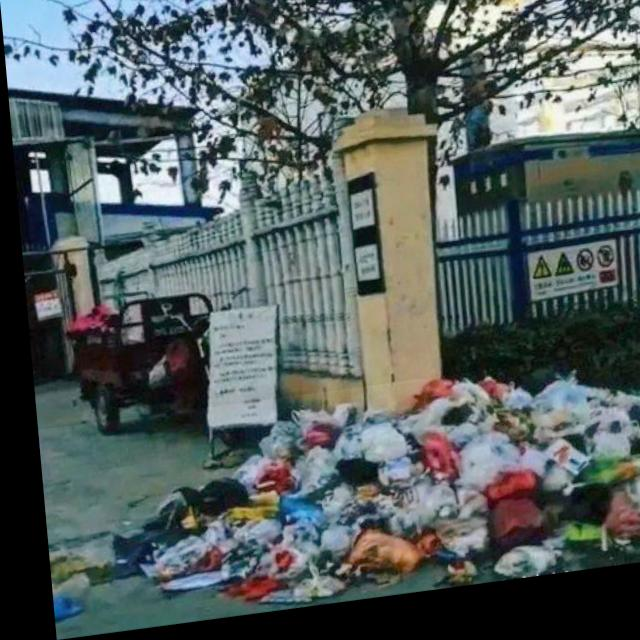garbage: (30, 363, 640, 639)
